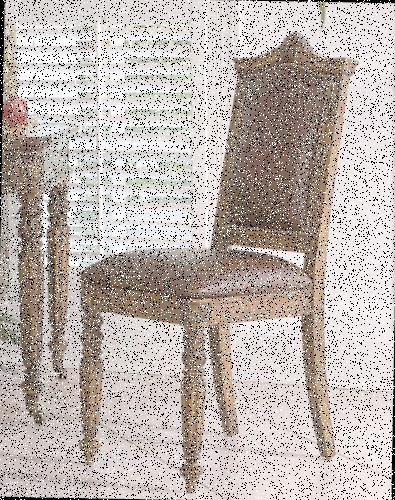Silla: (73, 34, 356, 496)
